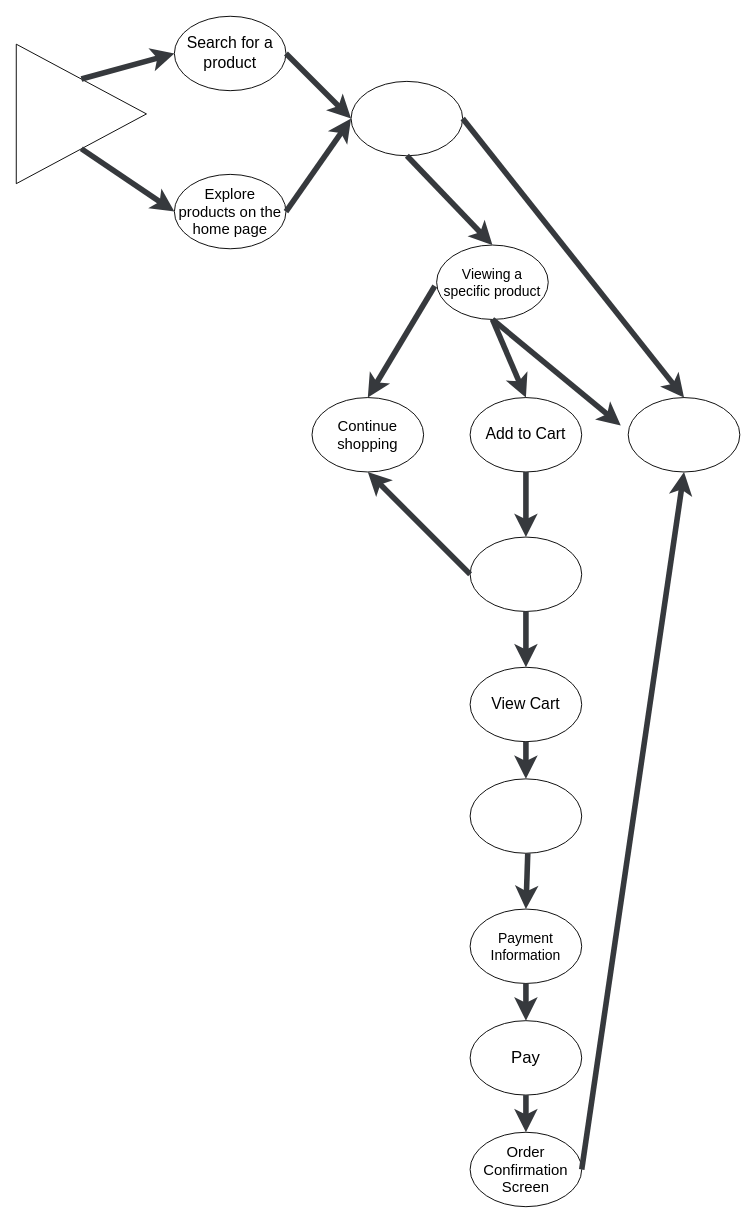
Image size: 756x1223. Some labels were removed from this diagram. Each missing label, with the box of its shape:
Add to Cart Confirmation: (469, 536, 582, 611)
Enter Website: (15, 43, 146, 184)
Leave Website: (627, 397, 740, 472)
Look over the products: (350, 80, 463, 156)
View Payment: (469, 778, 582, 853)
